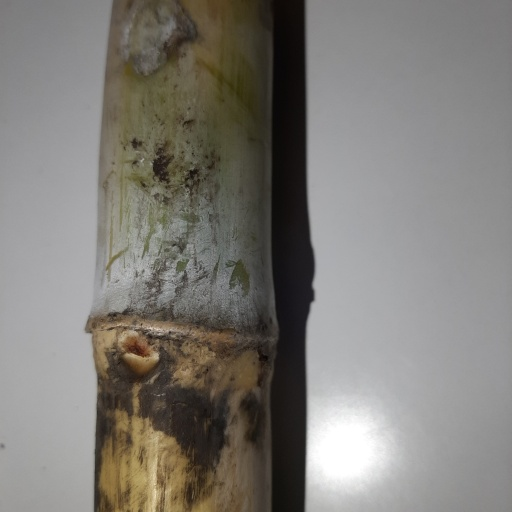Damage_Bud: (117, 330, 160, 376)
